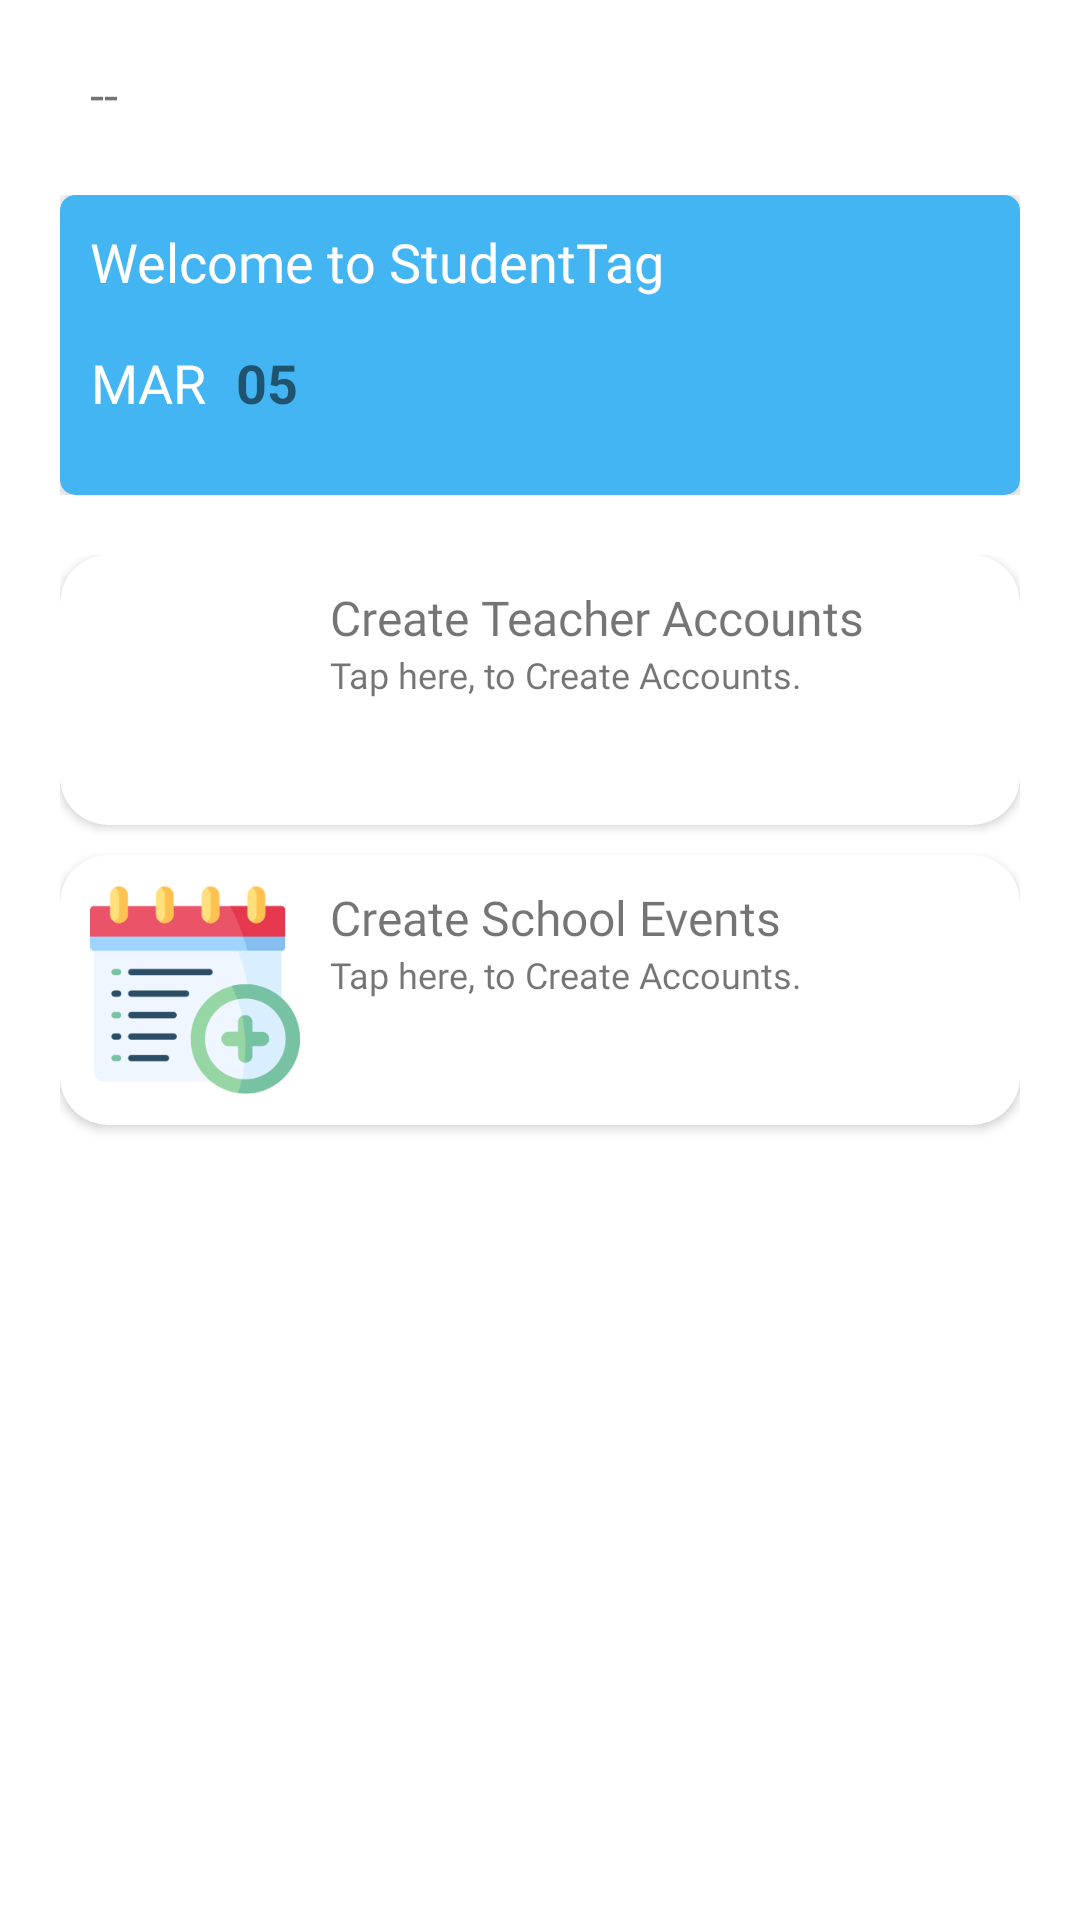

Icon bounding boxes for this 1080 × 1920 phone screenshot, format box=[x1, y1, x2, y2]:
addevent: box=[90, 886, 300, 1094]
